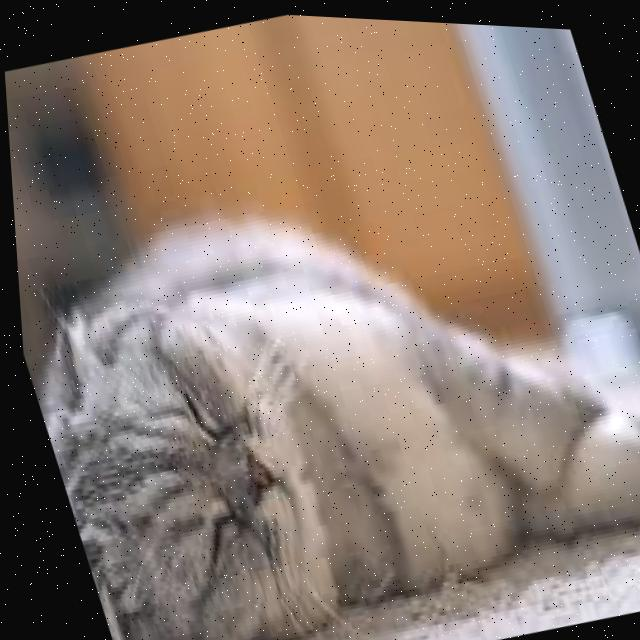Scottish Fold: (6, 106, 640, 640)
